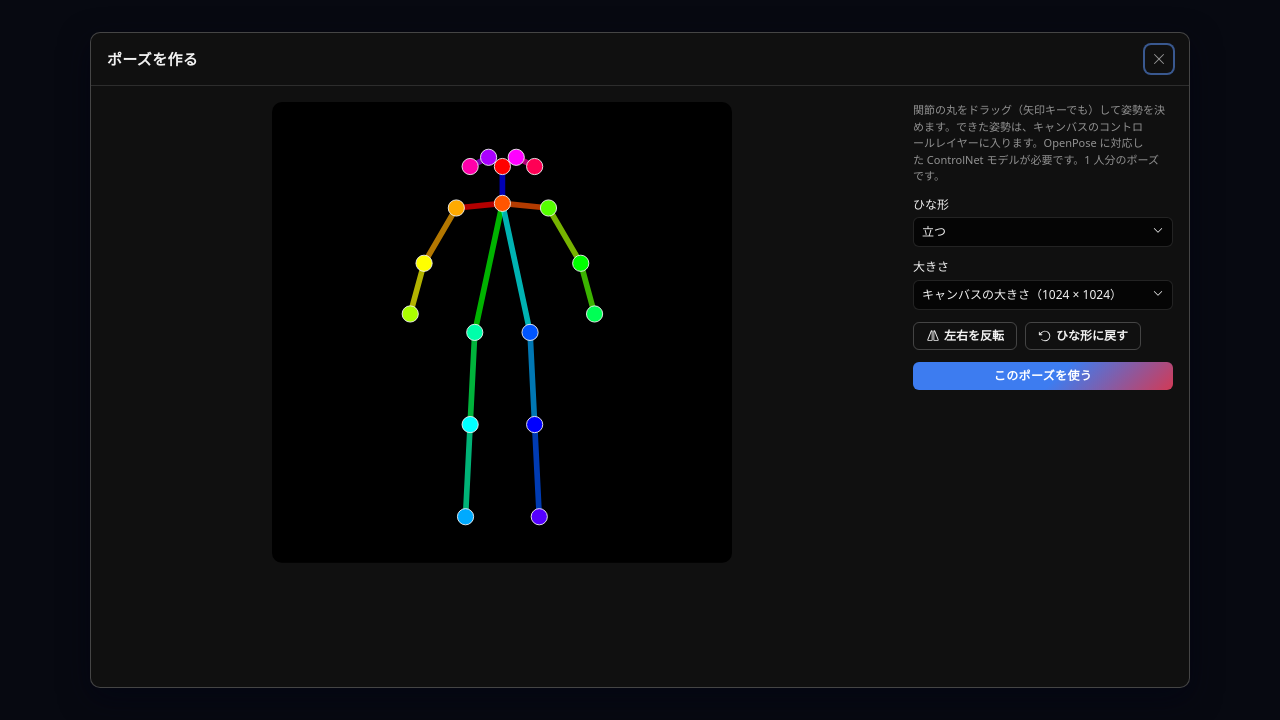
using the pose › stays open and shows the reason when the picture cannot be saved
Check: the element with test id "pose-dialog" is shown, box [272,102,1173,563]
Click the button with test id "pose-use" at [1043, 376], box [913,362,1173,390]
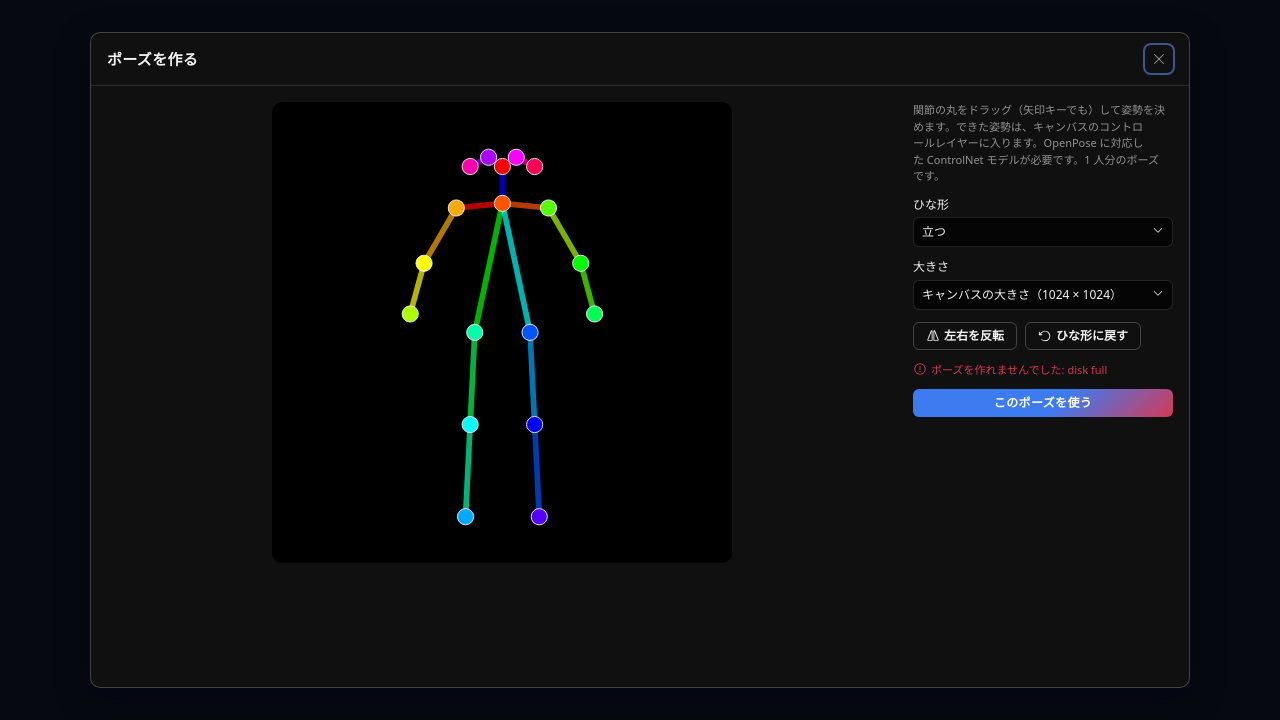
Check: the message shows "disk full", box [1067,362,1107,377]
